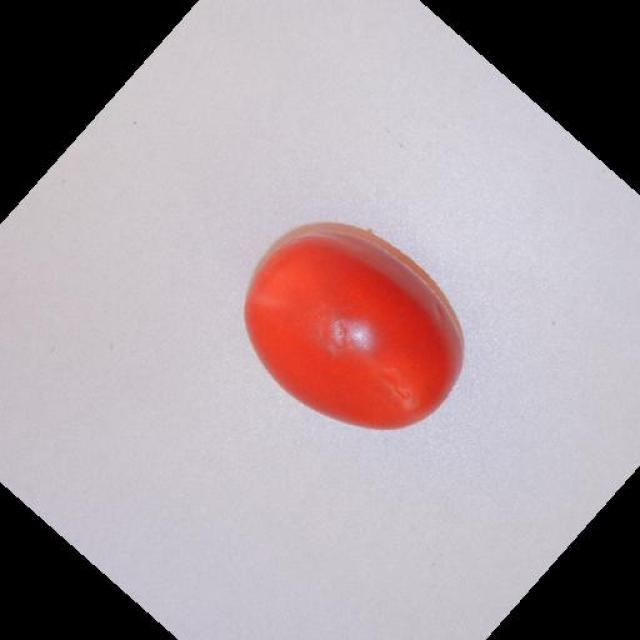Fresh Tomato: (219, 209, 486, 453)
